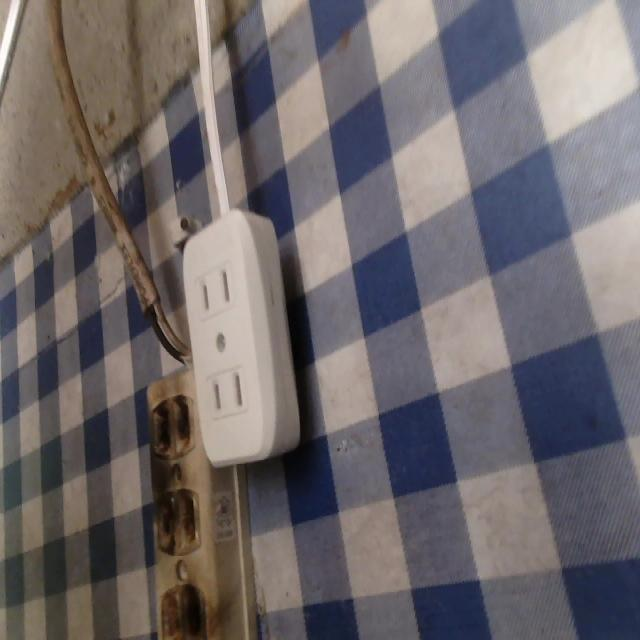-: (153, 485, 203, 555), (147, 391, 195, 457), (158, 580, 209, 639)
